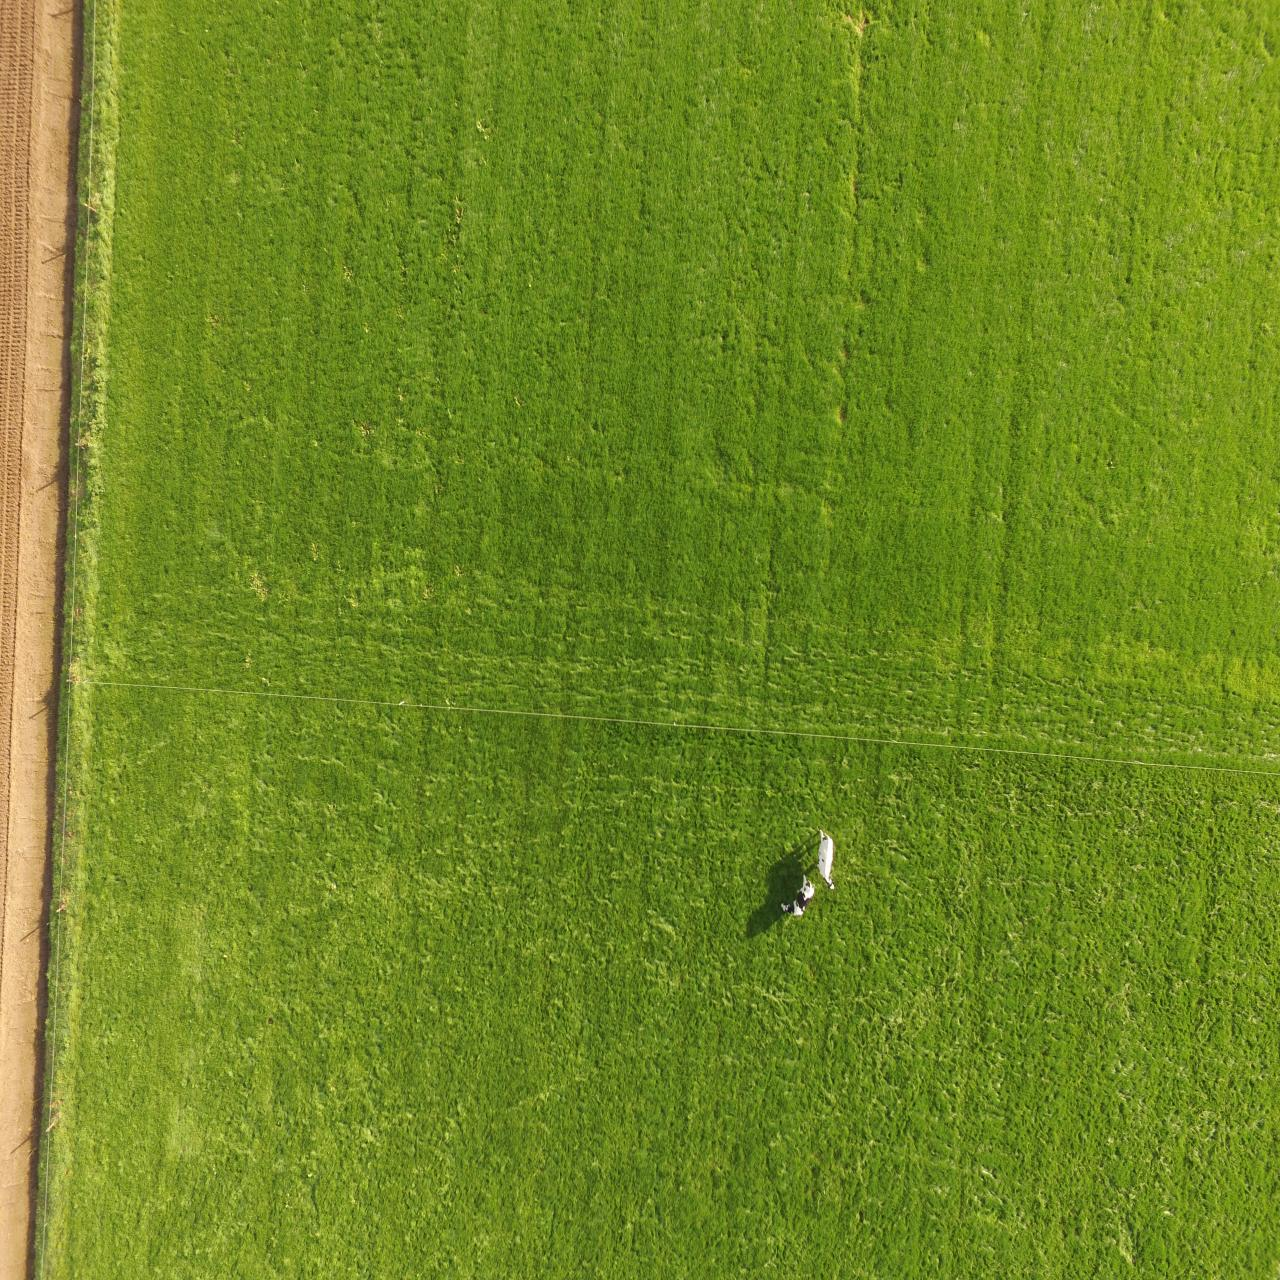cow: (779, 873, 816, 917), (817, 828, 835, 891)
